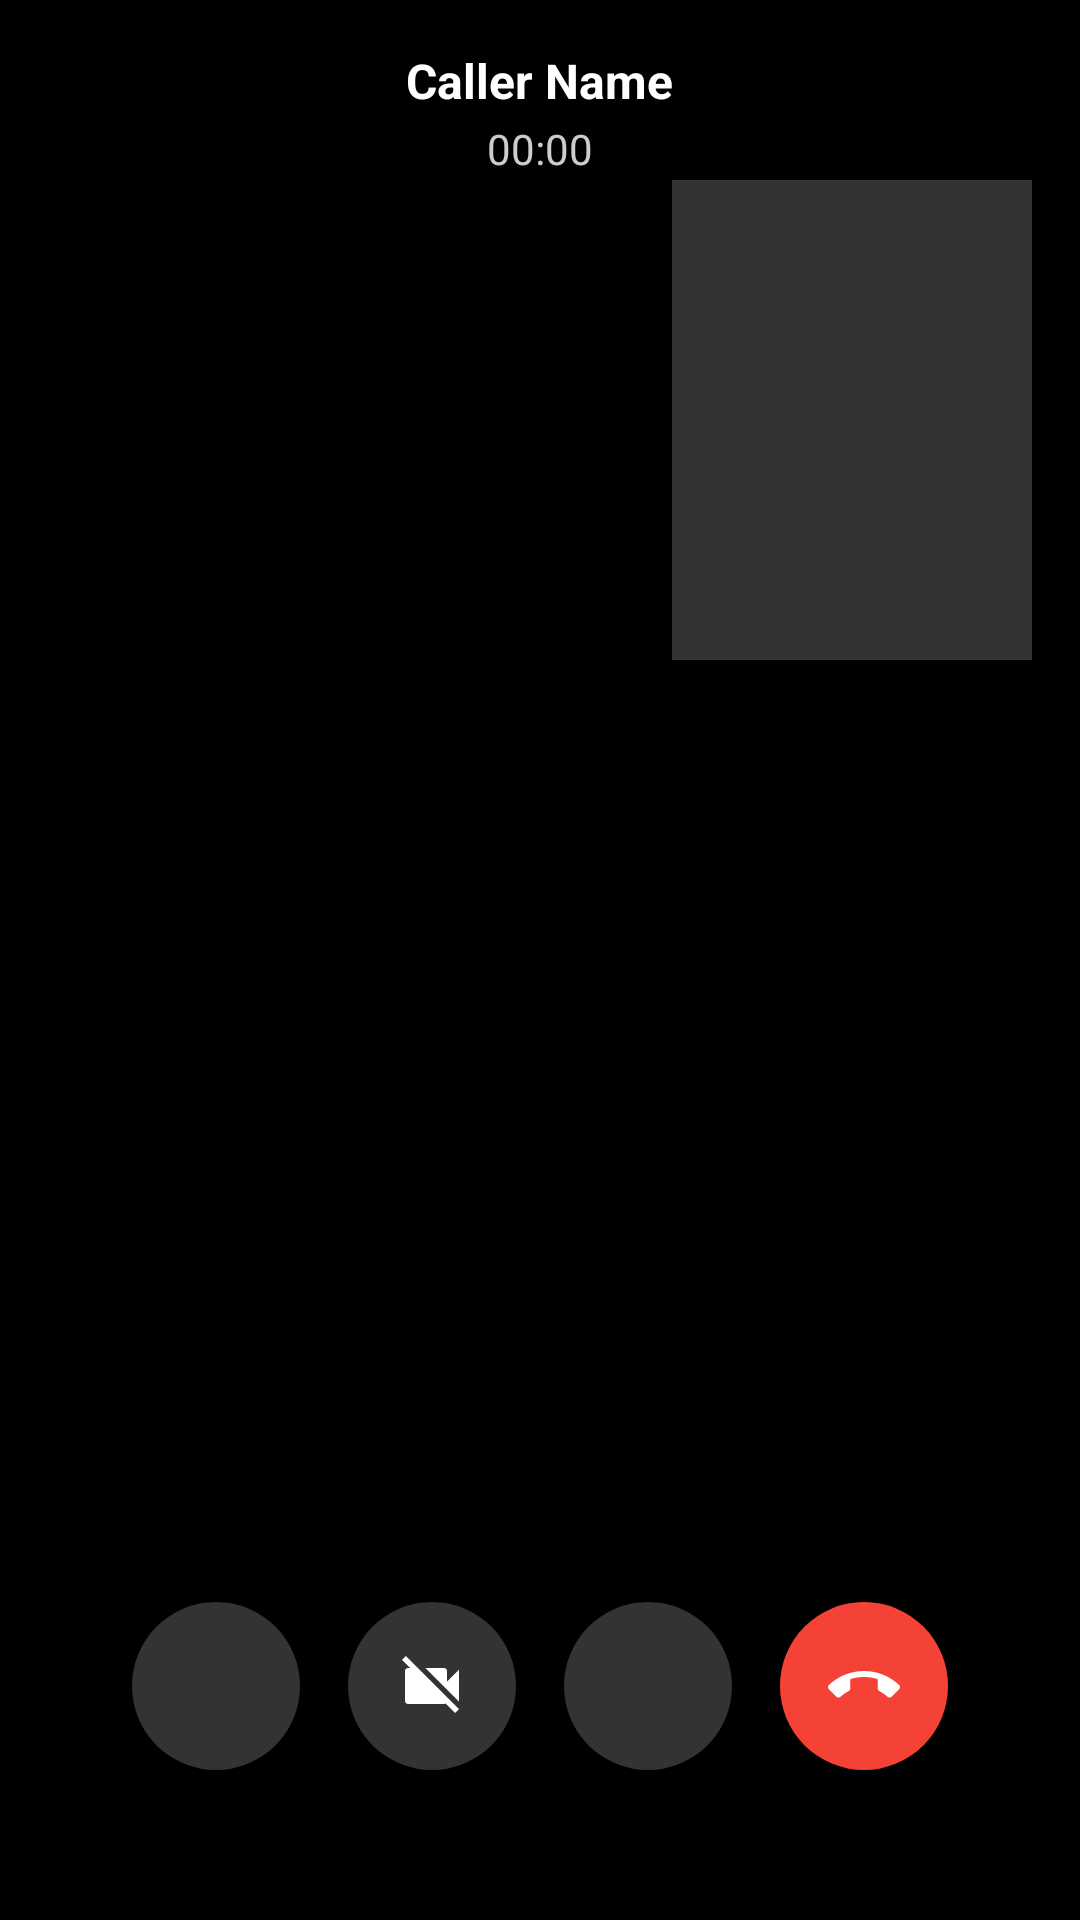

Icon click points for this 1080×1920 phone screenshot, format [x,y]:
Camera: [432,1686]
End Call: [864,1686]
